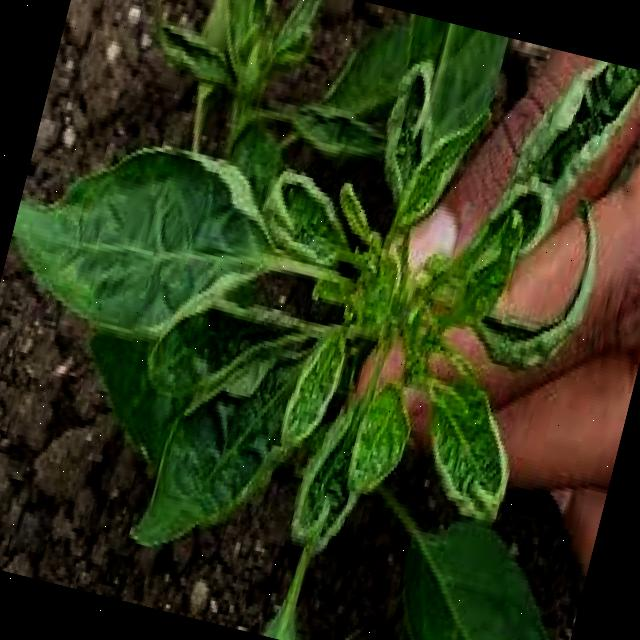leaf curl: (0, 0, 441, 524)
